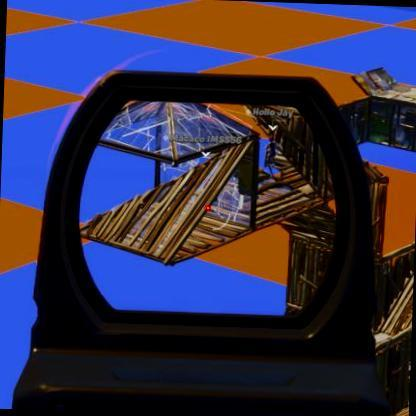person: (264, 134, 280, 173)
